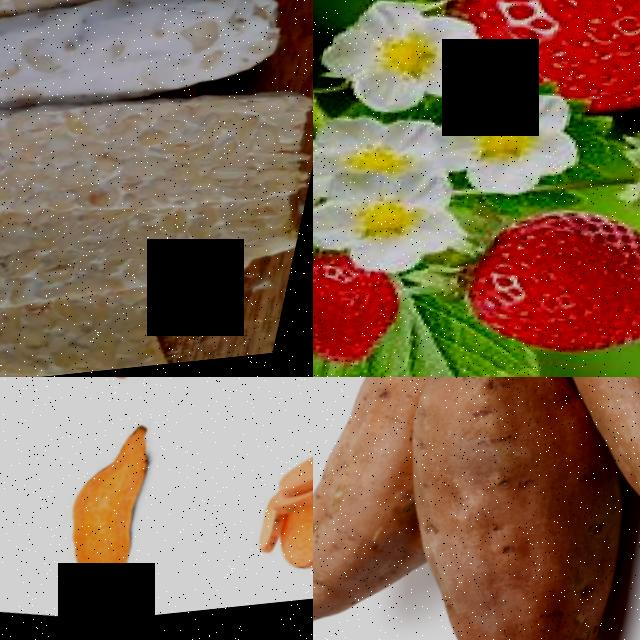strawberry: (458, 194, 640, 377), (488, 0, 640, 161), (313, 250, 407, 377)
sweet potato: (346, 418, 616, 640), (313, 401, 423, 640), (58, 422, 163, 600), (413, 377, 566, 454)
tempeh: (0, 29, 313, 289), (26, 0, 295, 135), (0, 197, 131, 358), (0, 281, 194, 377)
